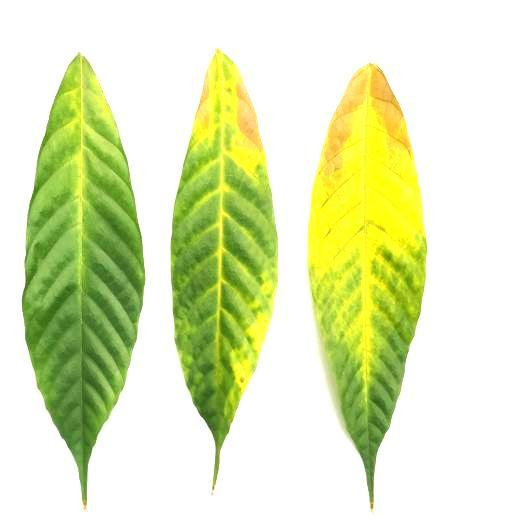Potassium: (22, 54, 144, 505), (308, 65, 426, 508), (172, 50, 277, 488)
